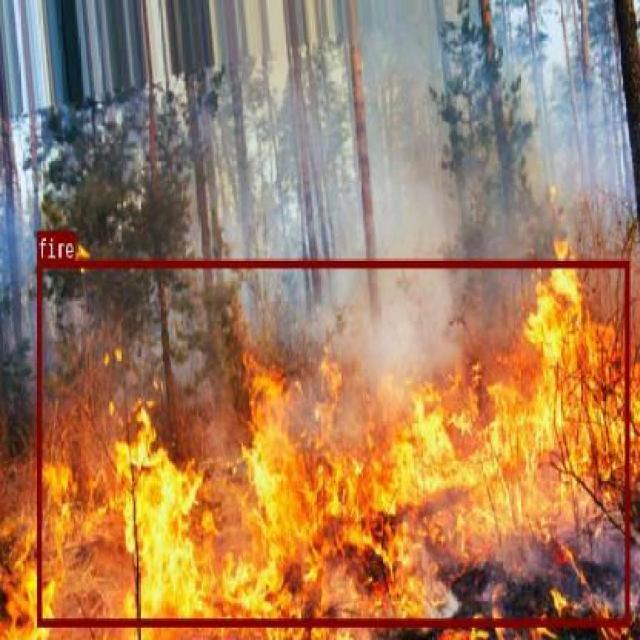Fire: (36, 258, 629, 624)
